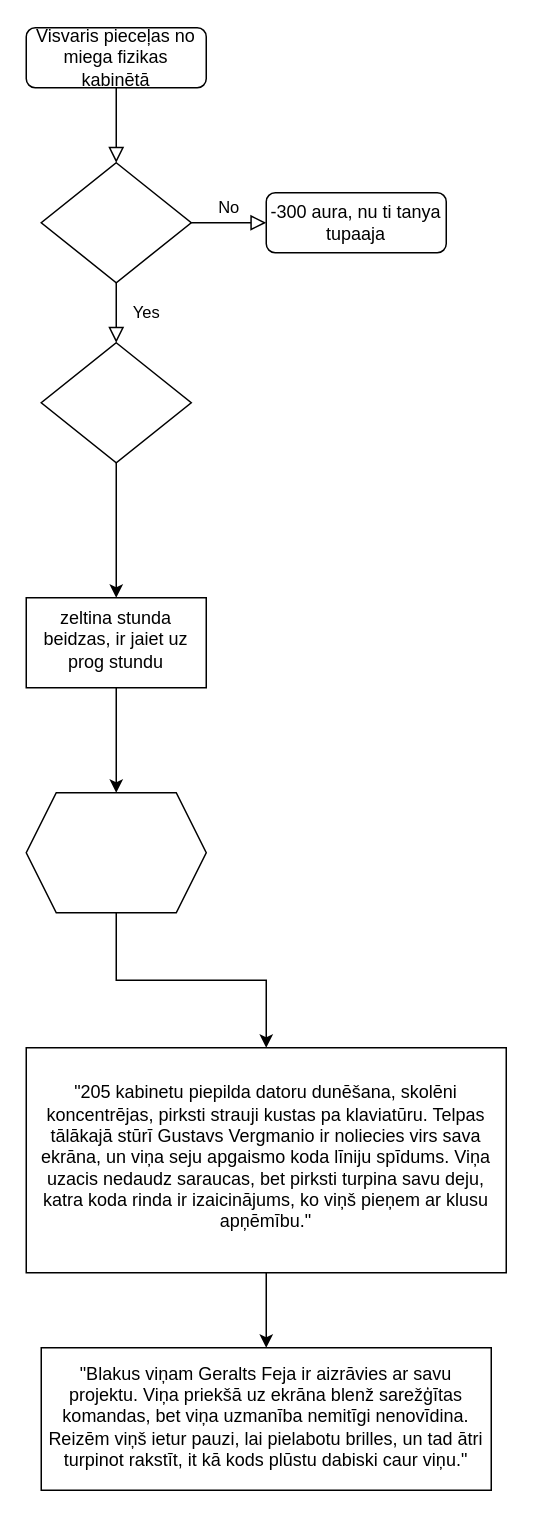
Image size: 533x1517. Some labels were removed from this diagram. The centre of each missing label's shape, as x and y in pixels:
+300 aura, "nu vismaz kaut kas": the point at 115,402
apskatīt klasi: the point at 115,852
zeltins piepisas visvarim, prasa vai vins zin atskiribu starp masu un svaru: the point at 115,222
